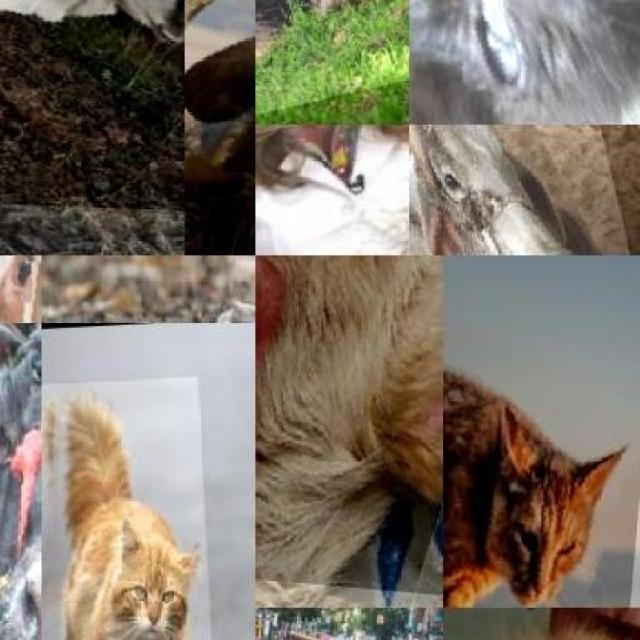buffalo: (184, 0, 255, 255), (0, 323, 42, 640)
cat: (443, 255, 640, 608), (42, 375, 218, 640), (409, 0, 640, 125)
cow: (0, 0, 185, 211), (409, 124, 640, 256)
dog: (255, 255, 443, 597), (256, 0, 410, 125)
